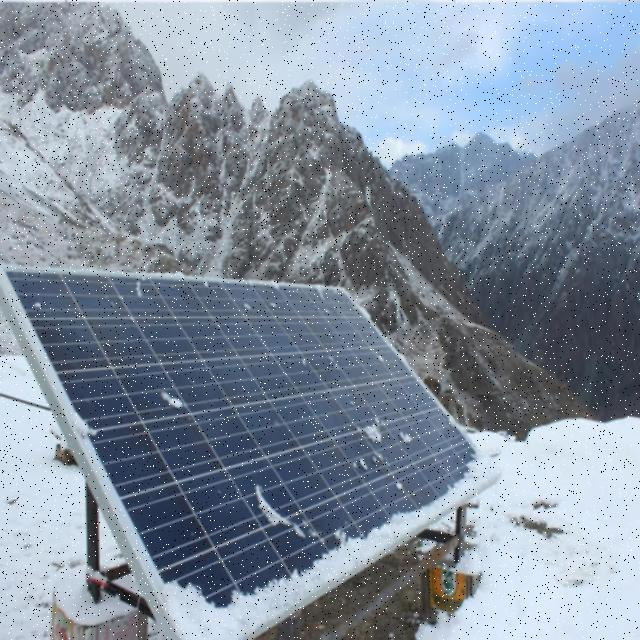snow covered: (8, 271, 493, 640)
